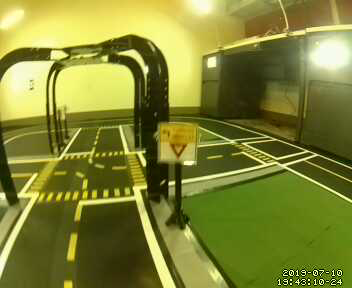Turn Yield: (156, 120, 197, 165)
